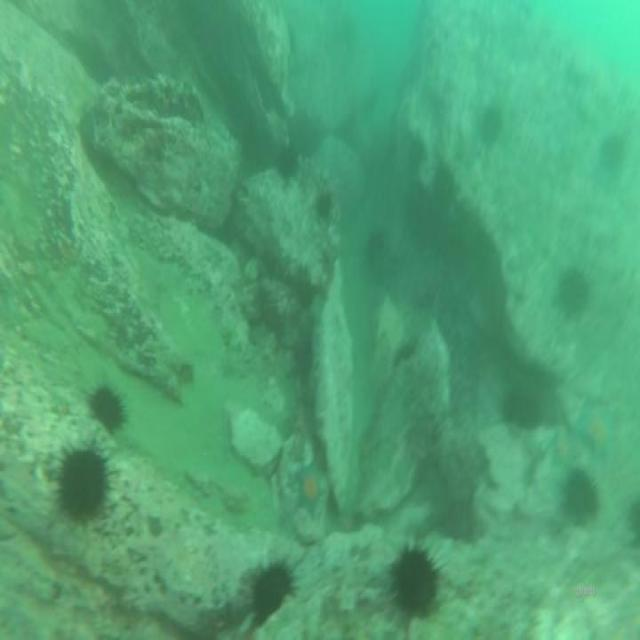echinus: (57, 448, 105, 514), (393, 552, 437, 614), (251, 564, 289, 618), (564, 469, 598, 525), (505, 384, 538, 428), (556, 267, 586, 313), (90, 386, 122, 428), (431, 164, 455, 210), (601, 131, 621, 172), (402, 136, 424, 171), (481, 101, 499, 142), (276, 144, 296, 172), (316, 194, 330, 217)
starfish: (579, 401, 614, 455), (296, 461, 324, 512), (553, 430, 577, 468)
